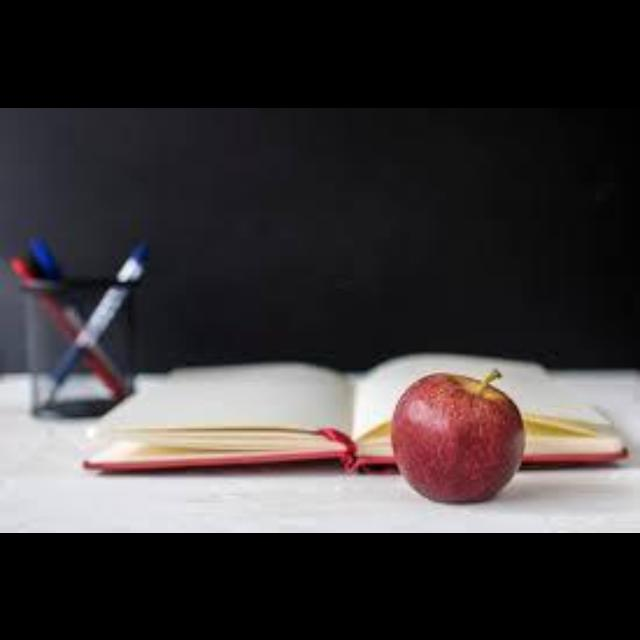apple: (393, 368, 524, 498)
